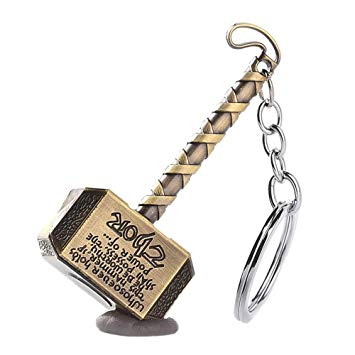THOR Hammer: (48, 48, 285, 327)
